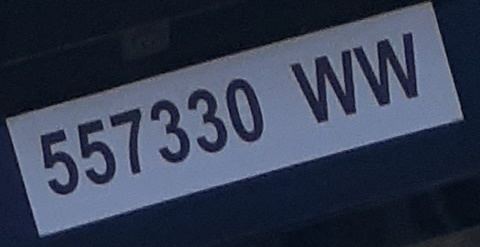0: (225, 74, 267, 142)
3: (148, 93, 192, 166), (186, 87, 228, 154)
5: (78, 111, 118, 190), (37, 124, 79, 197)
7: (108, 101, 151, 175)
w: (287, 47, 360, 125), (353, 30, 425, 108)
